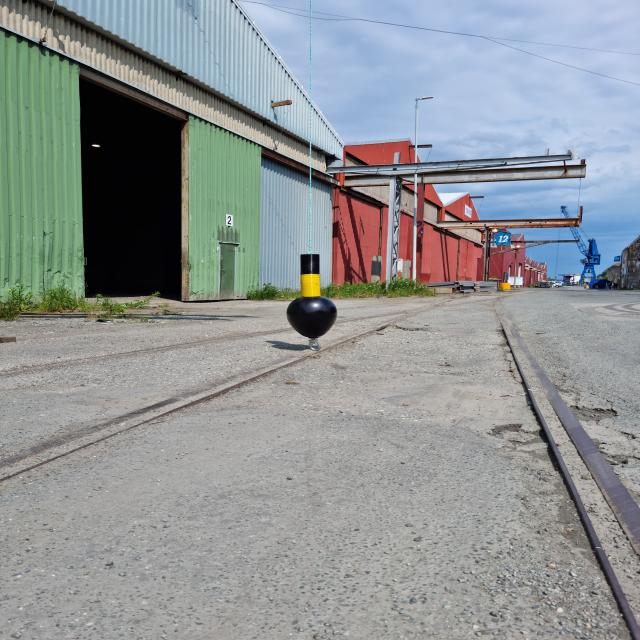east: (285, 254, 338, 338)
